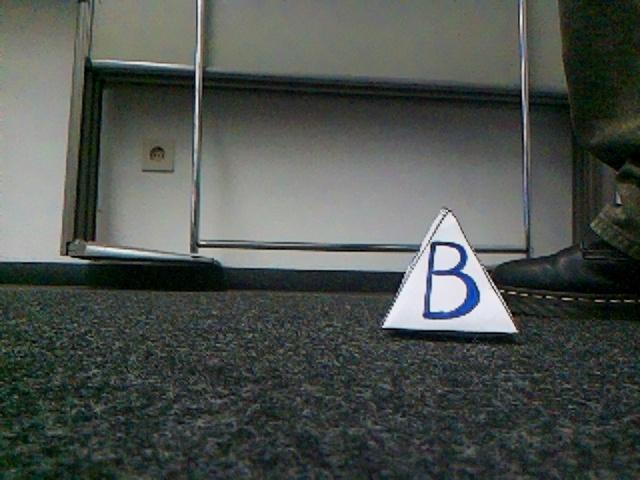B: (382, 209, 522, 338)
